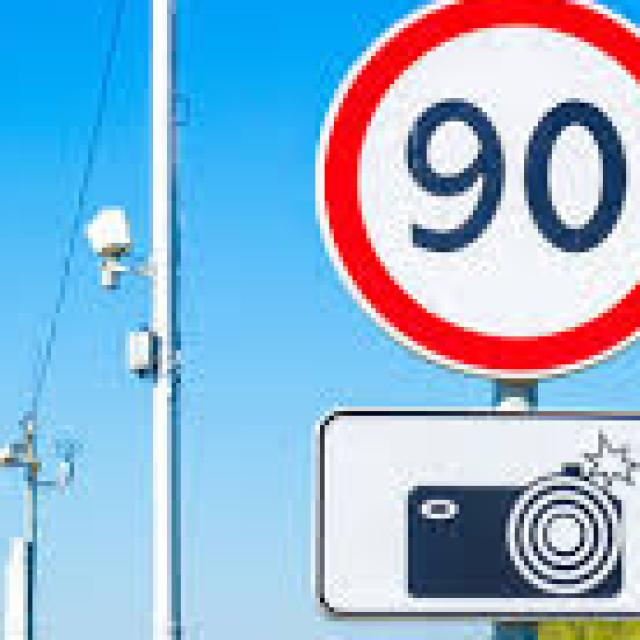Speed Limit -90-: (310, 0, 640, 392)
